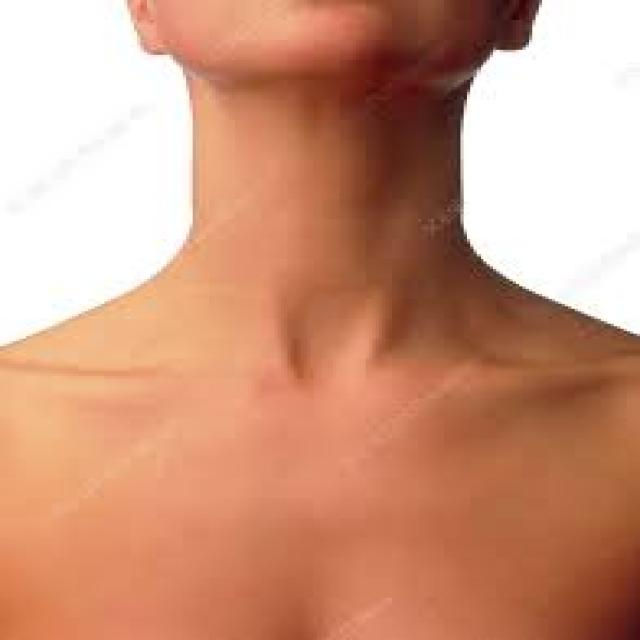Healthy: (83, 66, 563, 353)
